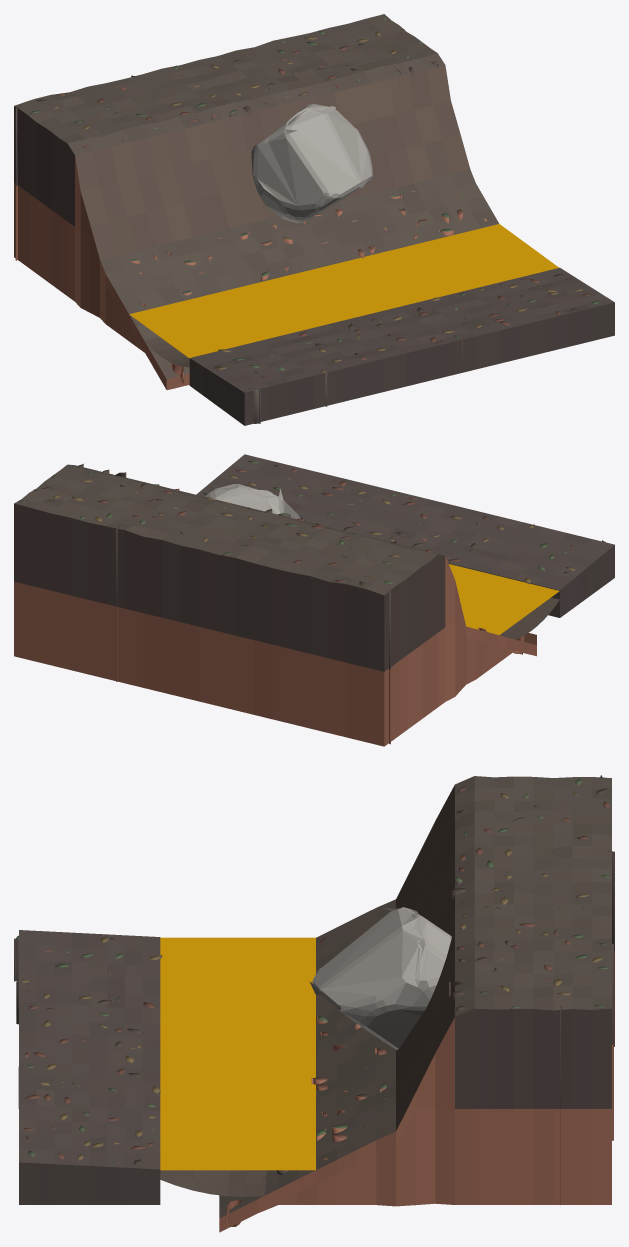
File: riacho_floresta.glb
3 renders of one model, top to bottom at view 1: azimuth 30°, elevation 25°; view 2: azimuth 150°, elevation 25°; view 3: azimuth 270°, elevation 25°, orthographic. The views are drawn at different scales.
Parts seen in each view (by area): view 1: Terrain_Encosta_Paredao, Terrain_Foreground_TerraPreta, Water_Igarape_Surface, Boulder_Protruding_Chunk, Riverbed_Igarape; view 2: Terrain_Encosta_Paredao, Terrain_Foreground_TerraPreta, Water_Igarape_Surface, Boulder_Protruding_Chunk, Riverbed_Igarape; view 3: Terrain_Encosta_Paredao, Terrain_Foreground_TerraPreta, Water_Igarape_Surface, Boulder_Protruding_Chunk, Riverbed_Igarape.
Part boxes in pixels (<box>): Terrain_Encosta_Paredao: <box>14,14,499,390</box>; Terrain_Foreground_TerraPreta: <box>189,267,614,425</box>; Water_Igarape_Surface: <box>129,224,558,358</box>; Boulder_Protruding_Chunk: <box>251,103,373,223</box>; Riverbed_Igarape: <box>145,338,189,367</box>; Terrain_Encosta_Paredao: <box>14,463,536,746</box>; Terrain_Foreground_TerraPreta: <box>196,454,614,617</box>; Water_Igarape_Surface: <box>449,564,559,635</box>; Boulder_Protruding_Chunk: <box>204,484,302,519</box>; Riverbed_Igarape: <box>307,521,559,639</box>; Terrain_Encosta_Paredao: <box>219,775,614,1232</box>; Terrain_Foreground_TerraPreta: <box>14,930,162,1204</box>; Water_Igarape_Surface: <box>160,937,315,1170</box>; Boulder_Protruding_Chunk: <box>309,907,451,1049</box>; Riverbed_Igarape: <box>141,1085,287,1196</box>.
Size of the model in its own units: 7.08 by 3.16 by 7.65.
